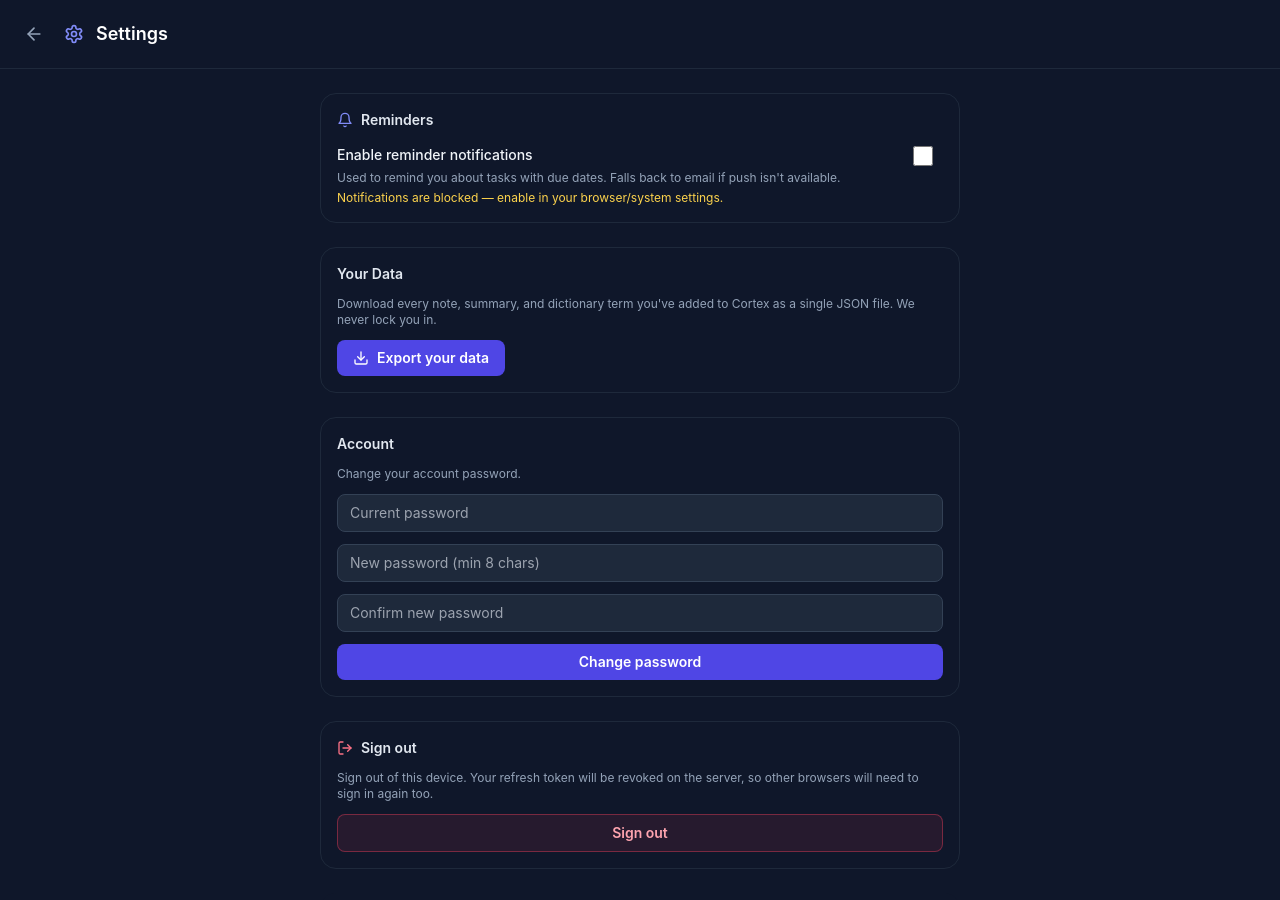
Test: SettingsPage — export your data (Round 15 / PR #23) › Export error shows message
Click the button "Export your data" at point(421, 358), box [337, 340, 505, 376]
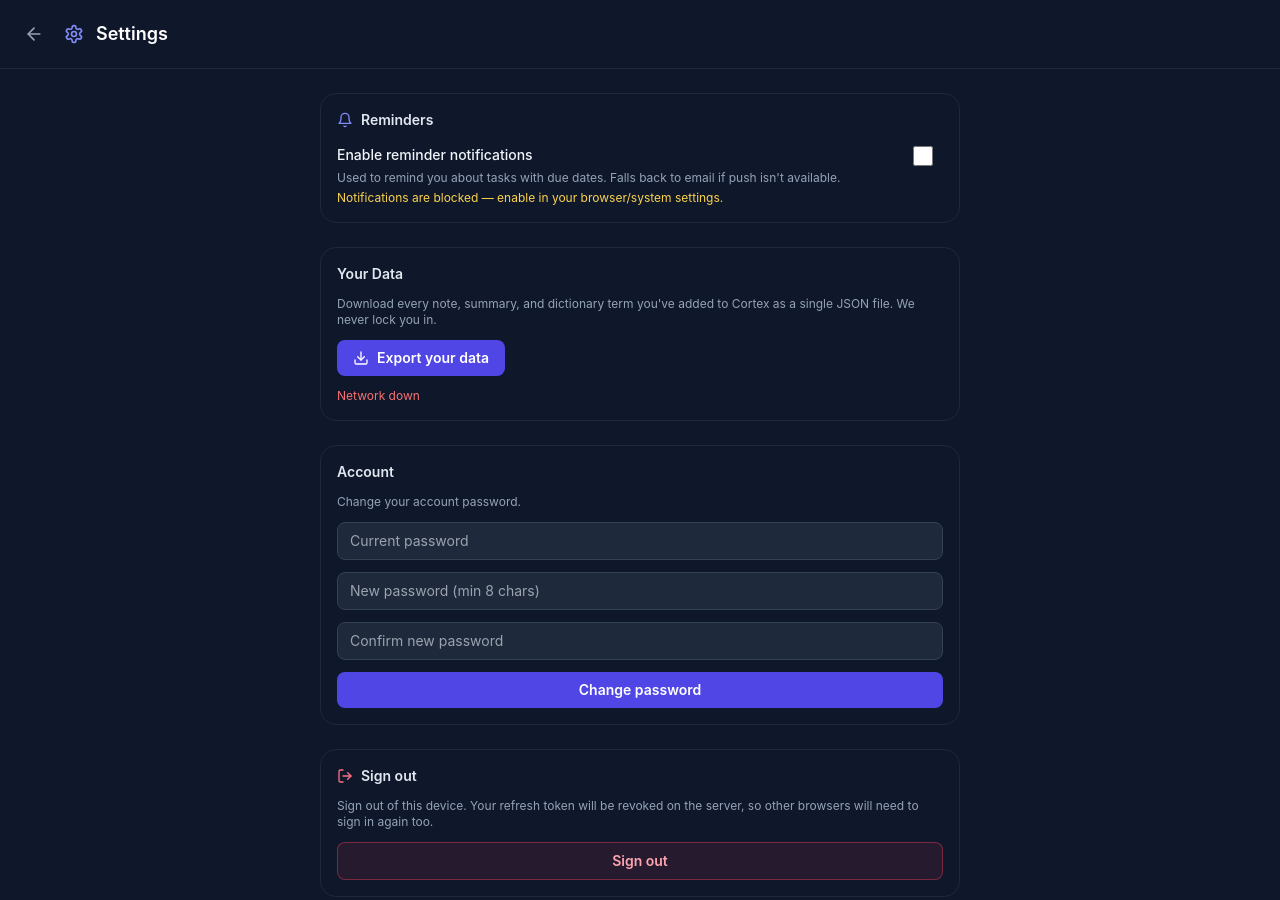
Result: the text "Network down" is shown at [337, 388, 420, 403]
